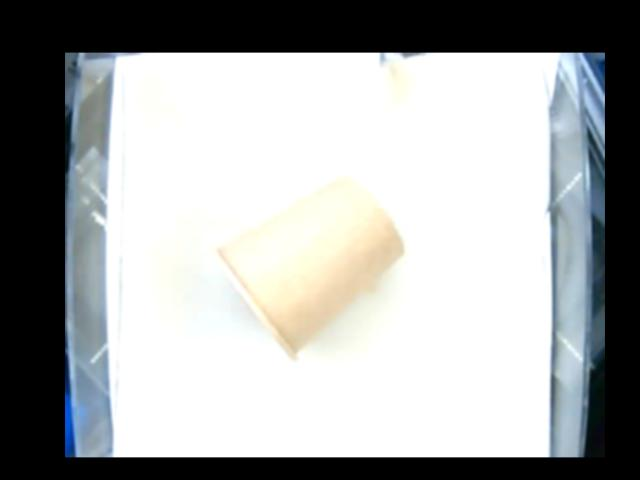Cup: (213, 173, 407, 362)
